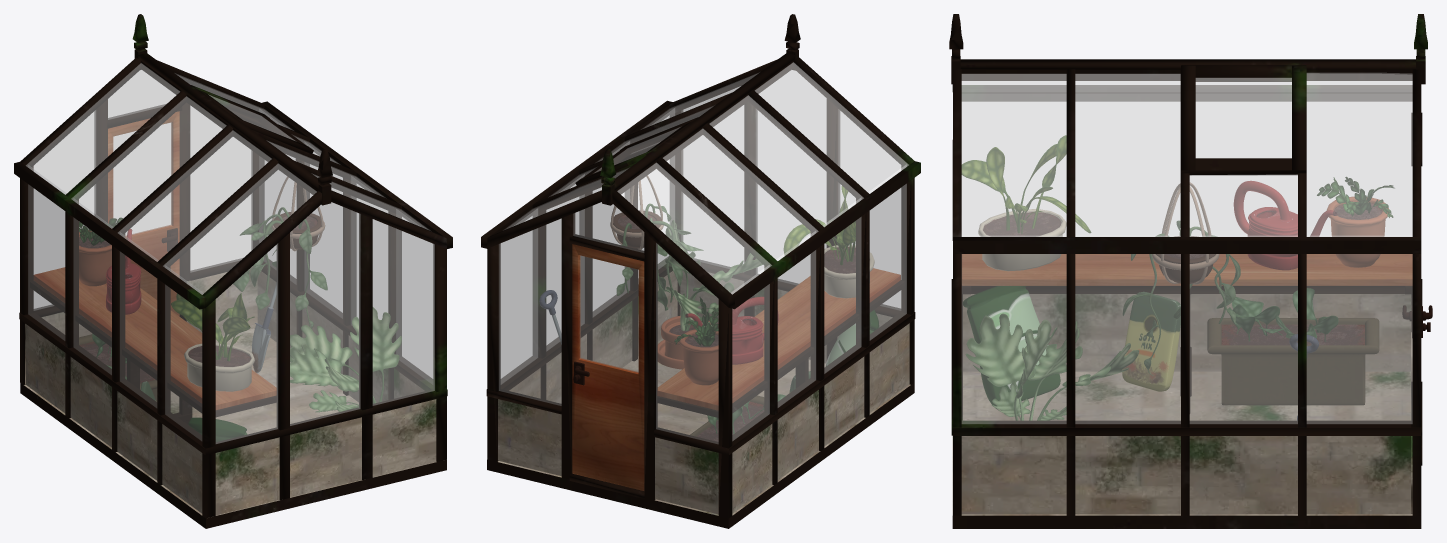
The model's file is greenhouse.glb.
The picture shows the model from 3 angles, left to right: view 1: azimuth 30°, elevation 25°; view 2: azimuth 150°, elevation 25°; view 3: azimuth 270°, elevation 25°; orthographic projection. The views are drawn at different scales.
Visible parts, largest first — view 1: Object_32; view 2: Object_32; view 3: Object_32.
Boxes of the visible parts, left/top/right/bottom form: Object_32: left=14, top=14, right=452, bottom=528; Object_32: left=481, top=14, right=920, bottom=528; Object_32: left=949, top=14, right=1432, bottom=528.
Bounding box in the file's own units: 12.39 × 16.3 × 16.24.
24 materials, 23 textured.
